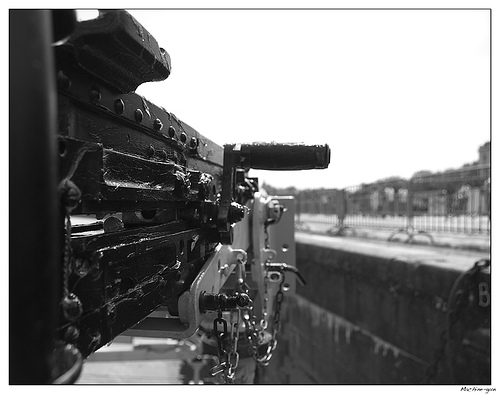rifle: (38, 20, 421, 378)
